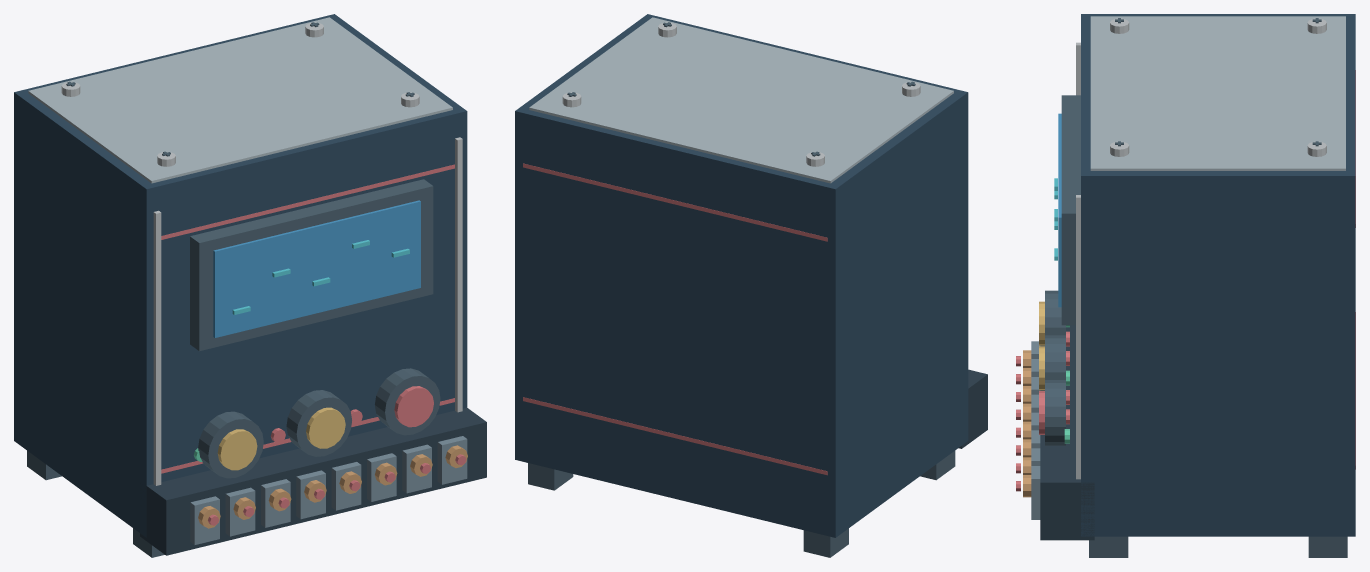
File: 54_L75_BeamPowerIsolationController.glb
3 renders of one model, left to right at view 1: azimuth 30°, elevation 25°; view 2: azimuth 150°, elevation 25°; view 3: azimuth 270°, elevation 25°, orthographic. The views are drawn at different scales.
Visible parts, largest first — view 1: BeamPowerIsolationController_Node_0000, BeamPowerIsolationController_Node_0007, BeamPowerIsolationController_Node_0025, BeamPowerIsolationController_Node_0042, BeamPowerIsolationController_Node_0024, BeamPowerIsolationController_Node_0005, BeamPowerIsolationController_Node_0006, BeamPowerIsolationController_Node_0069, BeamPowerIsolationController_Node_0071, BeamPowerIsolationController_Node_0067, BeamPowerIsolationController_Node_0023, BeamPowerIsolationController_Node_0072 (+10 smaller); view 2: BeamPowerIsolationController_Node_0000, BeamPowerIsolationController_Node_0007, BeamPowerIsolationController_Node_0020, BeamPowerIsolationController_Node_0022, BeamPowerIsolationController_Node_0042, BeamPowerIsolationController_Node_0038, BeamPowerIsolationController_Node_0040; view 3: BeamPowerIsolationController_Node_0000, BeamPowerIsolationController_Node_0007, BeamPowerIsolationController_Node_0042, BeamPowerIsolationController_Node_0024, BeamPowerIsolationController_Node_0006, BeamPowerIsolationController_Node_0071, BeamPowerIsolationController_Node_0069, BeamPowerIsolationController_Node_0040, BeamPowerIsolationController_Node_0041, BeamPowerIsolationController_Node_0025, BeamPowerIsolationController_Node_0067, BeamPowerIsolationController_Node_0064.
Part boxes in pixels (x1=…): BeamPowerIsolationController_Node_0000: x1=14, y1=14, x2=467, y2=537; BeamPowerIsolationController_Node_0007: x1=28, y1=17, x2=452, y2=183; BeamPowerIsolationController_Node_0025: x1=213, y1=200, x2=420, y2=337; BeamPowerIsolationController_Node_0042: x1=140, y1=407, x2=486, y2=555; BeamPowerIsolationController_Node_0024: x1=190, y1=179, x2=433, y2=351; BeamPowerIsolationController_Node_0005: x1=153, y1=210, x2=161, y2=485; BeamPowerIsolationController_Node_0006: x1=455, y1=137, x2=462, y2=412; BeamPowerIsolationController_Node_0069: x1=286, y1=390, x2=351, y2=456; BeamPowerIsolationController_Node_0071: x1=375, y1=368, x2=440, y2=435; BeamPowerIsolationController_Node_0067: x1=198, y1=411, x2=263, y2=478; BeamPowerIsolationController_Node_0023: x1=161, y1=164, x2=454, y2=239; BeamPowerIsolationController_Node_0072: x1=394, y1=386, x2=433, y2=427; BeamPowerIsolationController_Node_0000: x1=515, y1=14, x2=968, y2=537; BeamPowerIsolationController_Node_0007: x1=529, y1=17, x2=953, y2=183; BeamPowerIsolationController_Node_0020: x1=523, y1=397, x2=827, y2=475; BeamPowerIsolationController_Node_0022: x1=523, y1=163, x2=827, y2=241; BeamPowerIsolationController_Node_0042: x1=958, y1=369, x2=987, y2=448; BeamPowerIsolationController_Node_0038: x1=803, y1=528, x2=848, y2=557; BeamPowerIsolationController_Node_0040: x1=528, y1=463, x2=573, y2=490; BeamPowerIsolationController_Node_0000: x1=1081, y1=14, x2=1355, y2=536; BeamPowerIsolationController_Node_0007: x1=1090, y1=16, x2=1345, y2=170; BeamPowerIsolationController_Node_0042: x1=1040, y1=325, x2=1094, y2=540; BeamPowerIsolationController_Node_0024: x1=1061, y1=95, x2=1080, y2=325; BeamPowerIsolationController_Node_0006: x1=1076, y1=195, x2=1080, y2=479; BeamPowerIsolationController_Node_0071: x1=1045, y1=380, x2=1065, y2=445; BeamPowerIsolationController_Node_0069: x1=1045, y1=335, x2=1065, y2=379; BeamPowerIsolationController_Node_0040: x1=1308, y1=536, x2=1347, y2=557; BeamPowerIsolationController_Node_0041: x1=1089, y1=536, x2=1128, y2=557; BeamPowerIsolationController_Node_0025: x1=1058, y1=113, x2=1061, y2=307; BeamPowerIsolationController_Node_0067: x1=1045, y1=290, x2=1065, y2=335; BeamPowerIsolationController_Node_0064: x1=1031, y1=466, x2=1040, y2=519.
Size of the model in its own units: 1.27 by 1.46 by 1.13.
